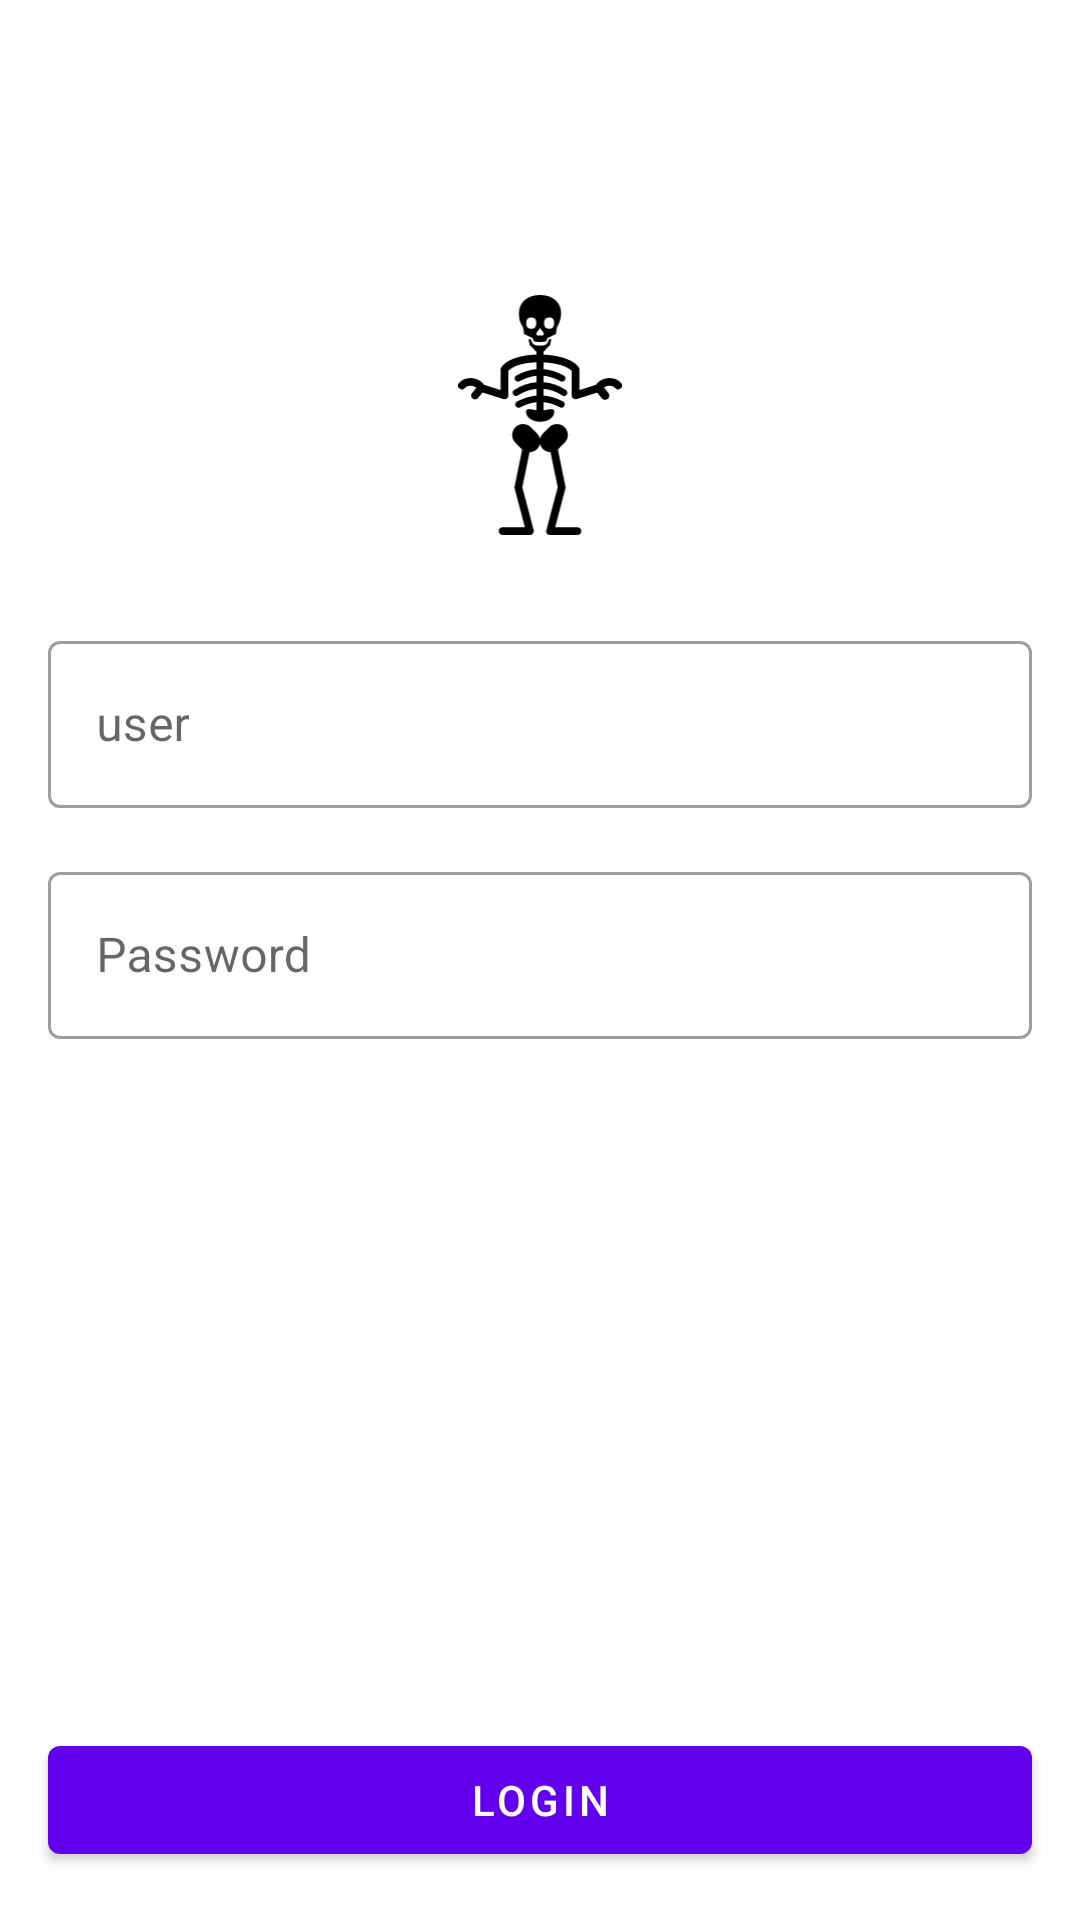

Point at icon controls on the screen. Image size 1080*1920, points as (x,y).
skeleton: (540,415)
